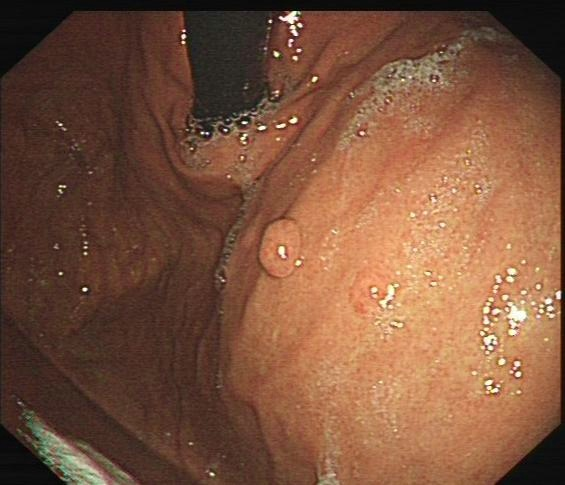Polyp: (337, 270, 396, 326), (254, 221, 307, 281)
